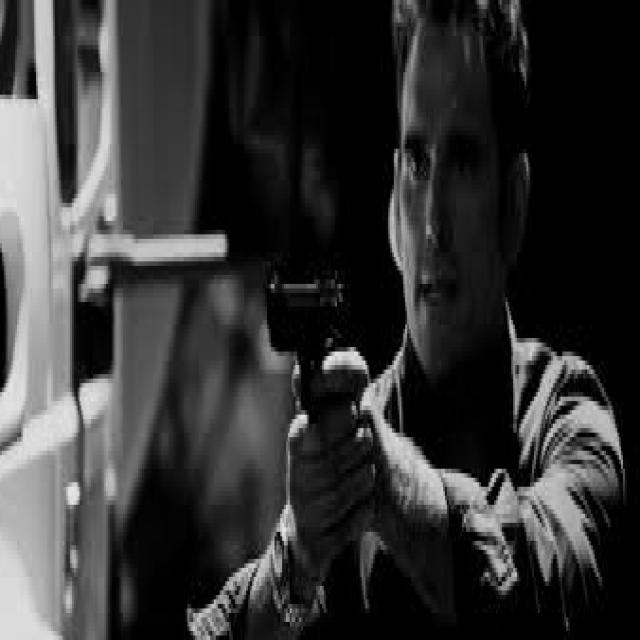gun: (233, 228, 386, 488)
